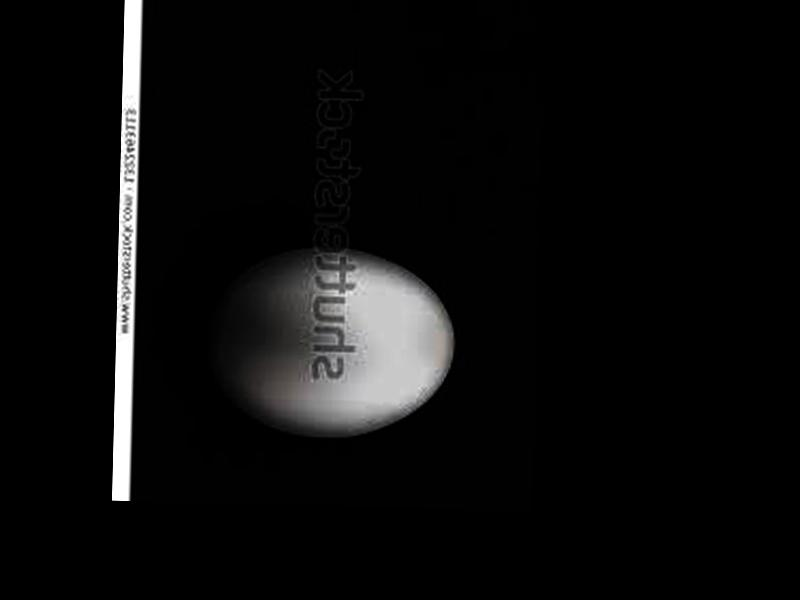Eggs: (206, 249, 459, 442)
